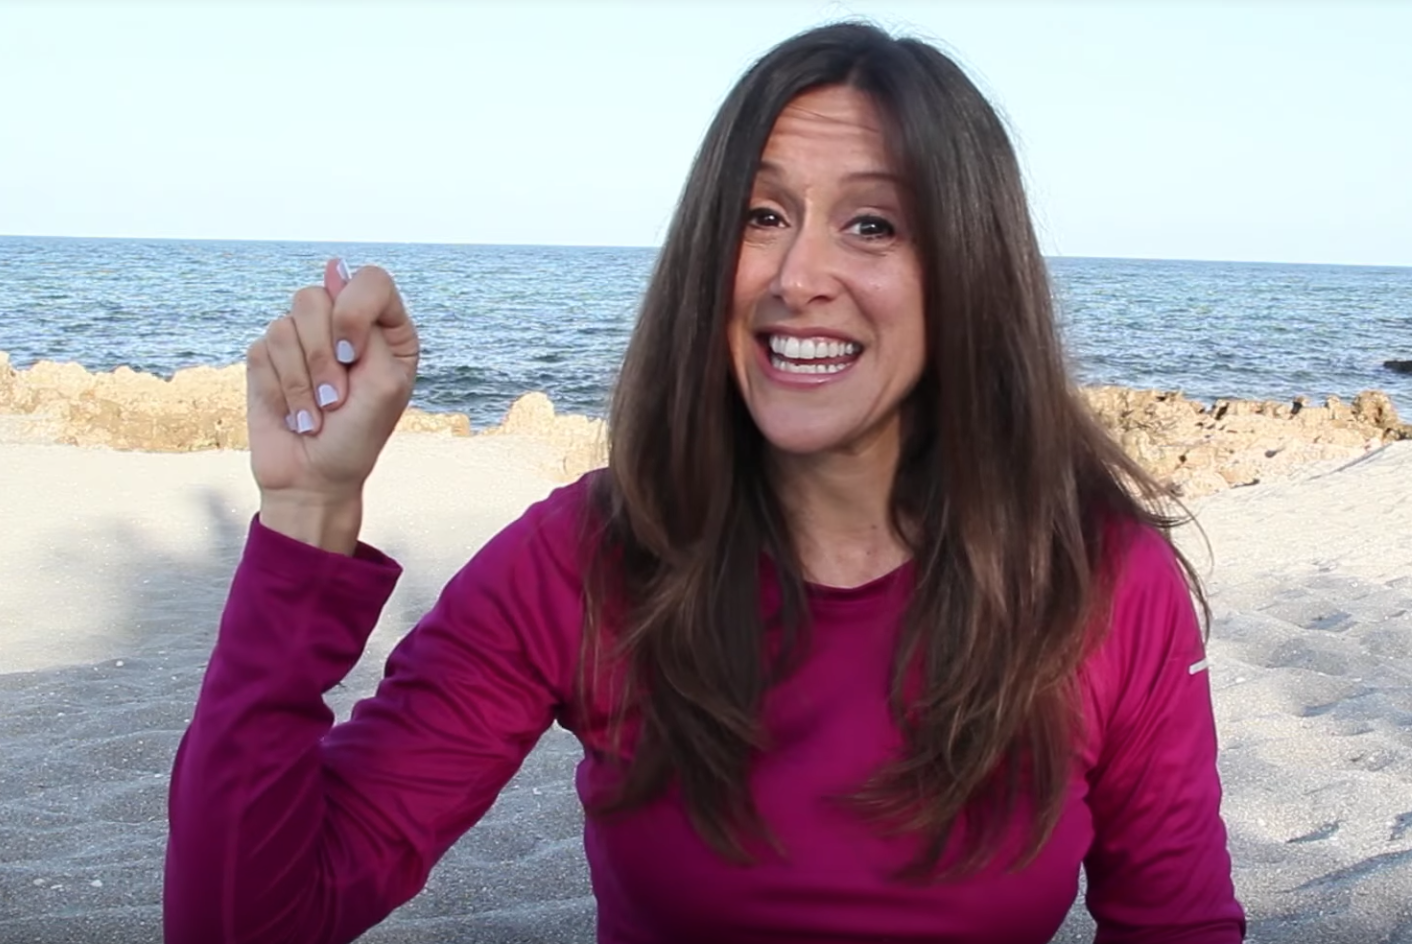t: (212, 237, 454, 589)
